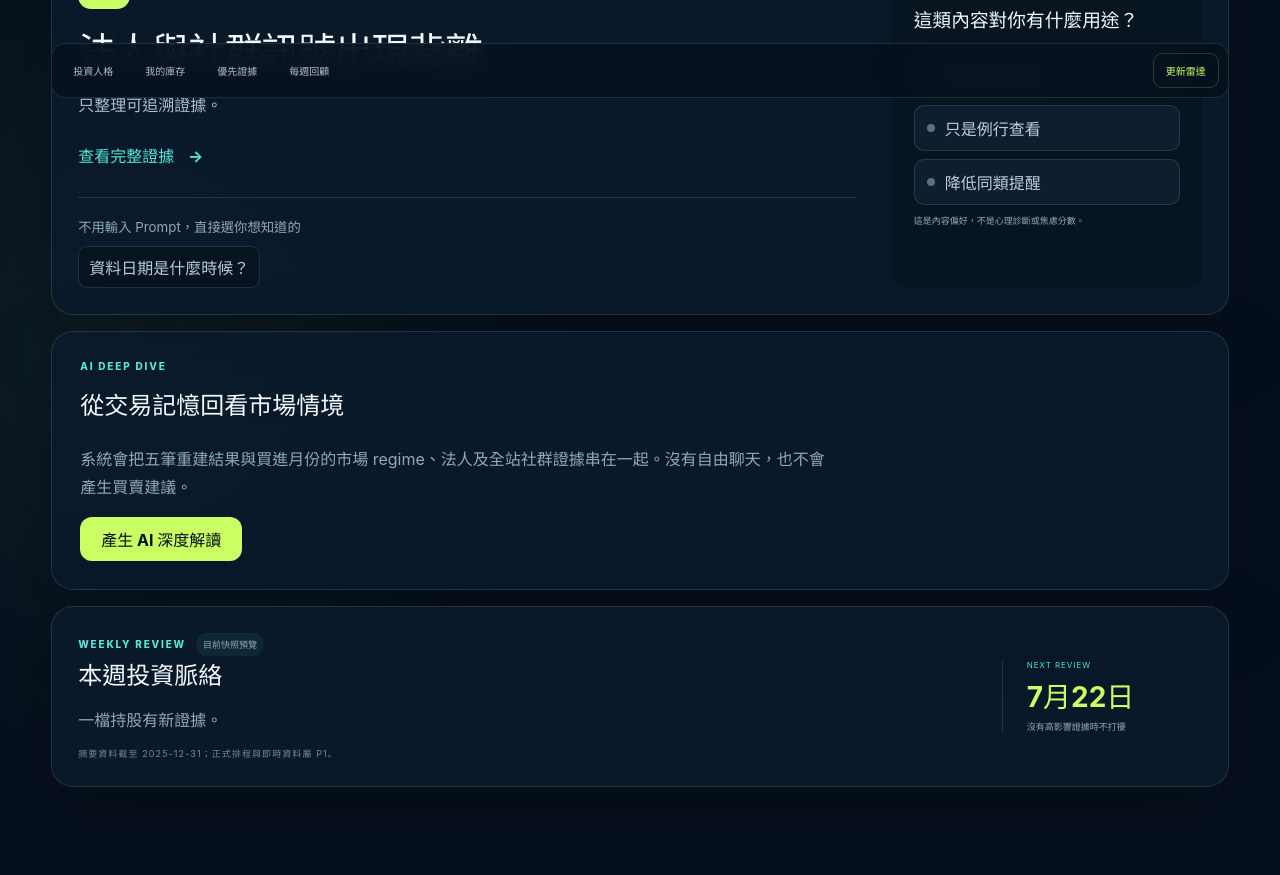
Test: PortfolioRadarRoute › unlocks structured AI deep dive and uses fixed question chips
This screenshot has width=1280, height=875.
(page scrolled)
Click the button "產生 AI 深度解讀".
click(161, 539)  # box 80,517 -> 242,561
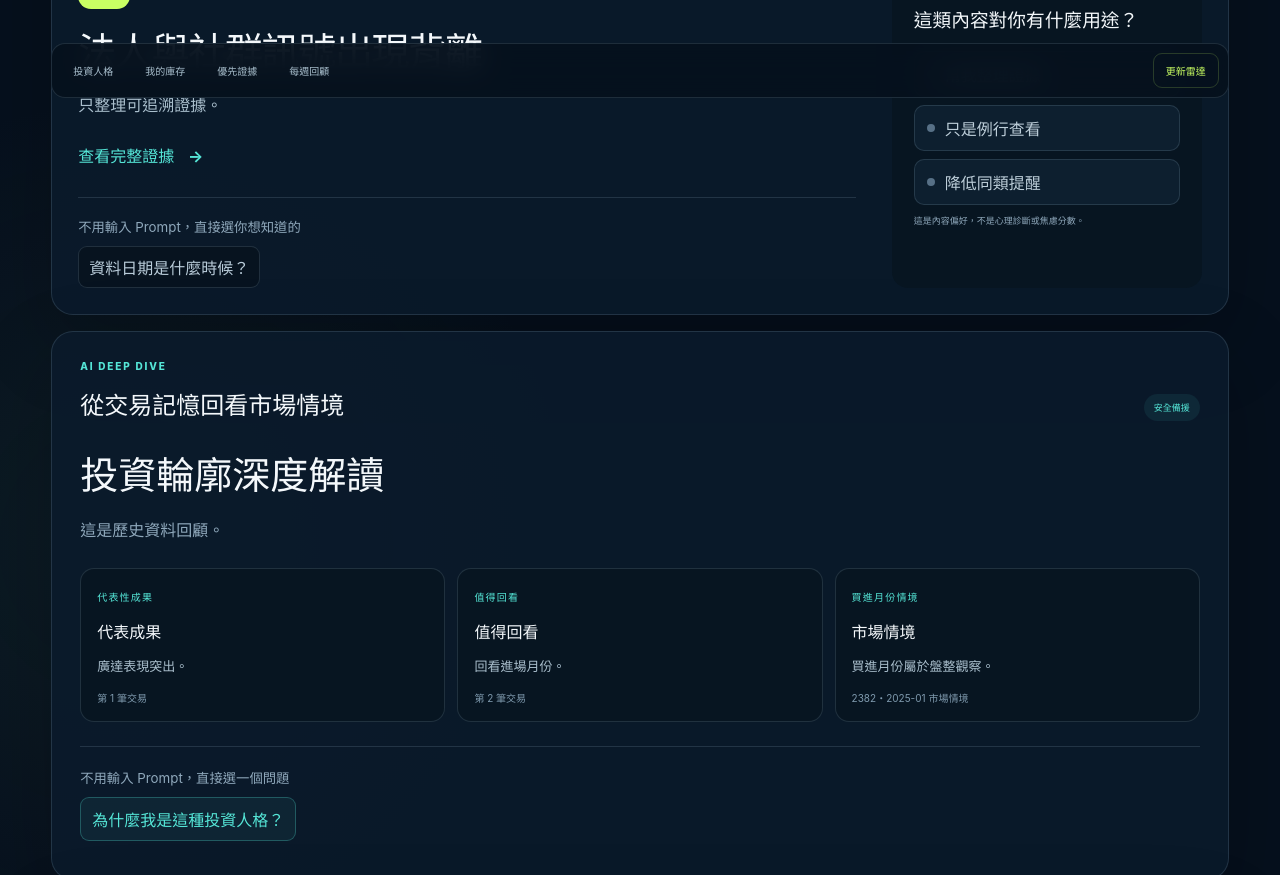
Expected: the heading "投資輪廓深度解讀" is shown, 80,452 -> 384,498
Expected: the text "代表性成果" is shown, 97,591 -> 153,603
Expected: the text "值得回看" is shown 2 times, 474,591 -> 519,603; 474,622 -> 538,642
Click the button "為什麼我是這種投資人格？".
click(188, 819)  # box 80,797 -> 296,841
(page scrolled)
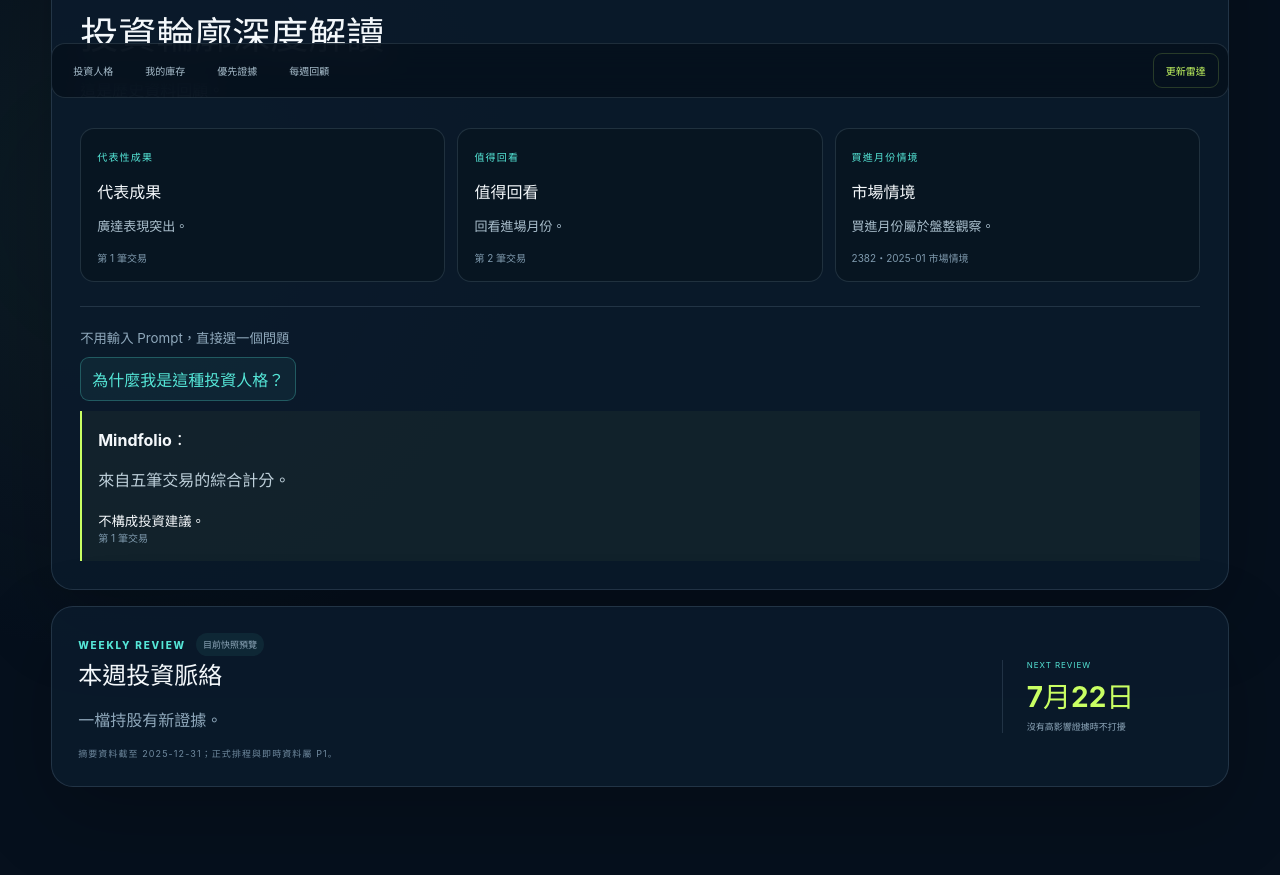
Expected: the text "來自五筆交易的綜合計分。" is shown, 98,470 -> 290,490
